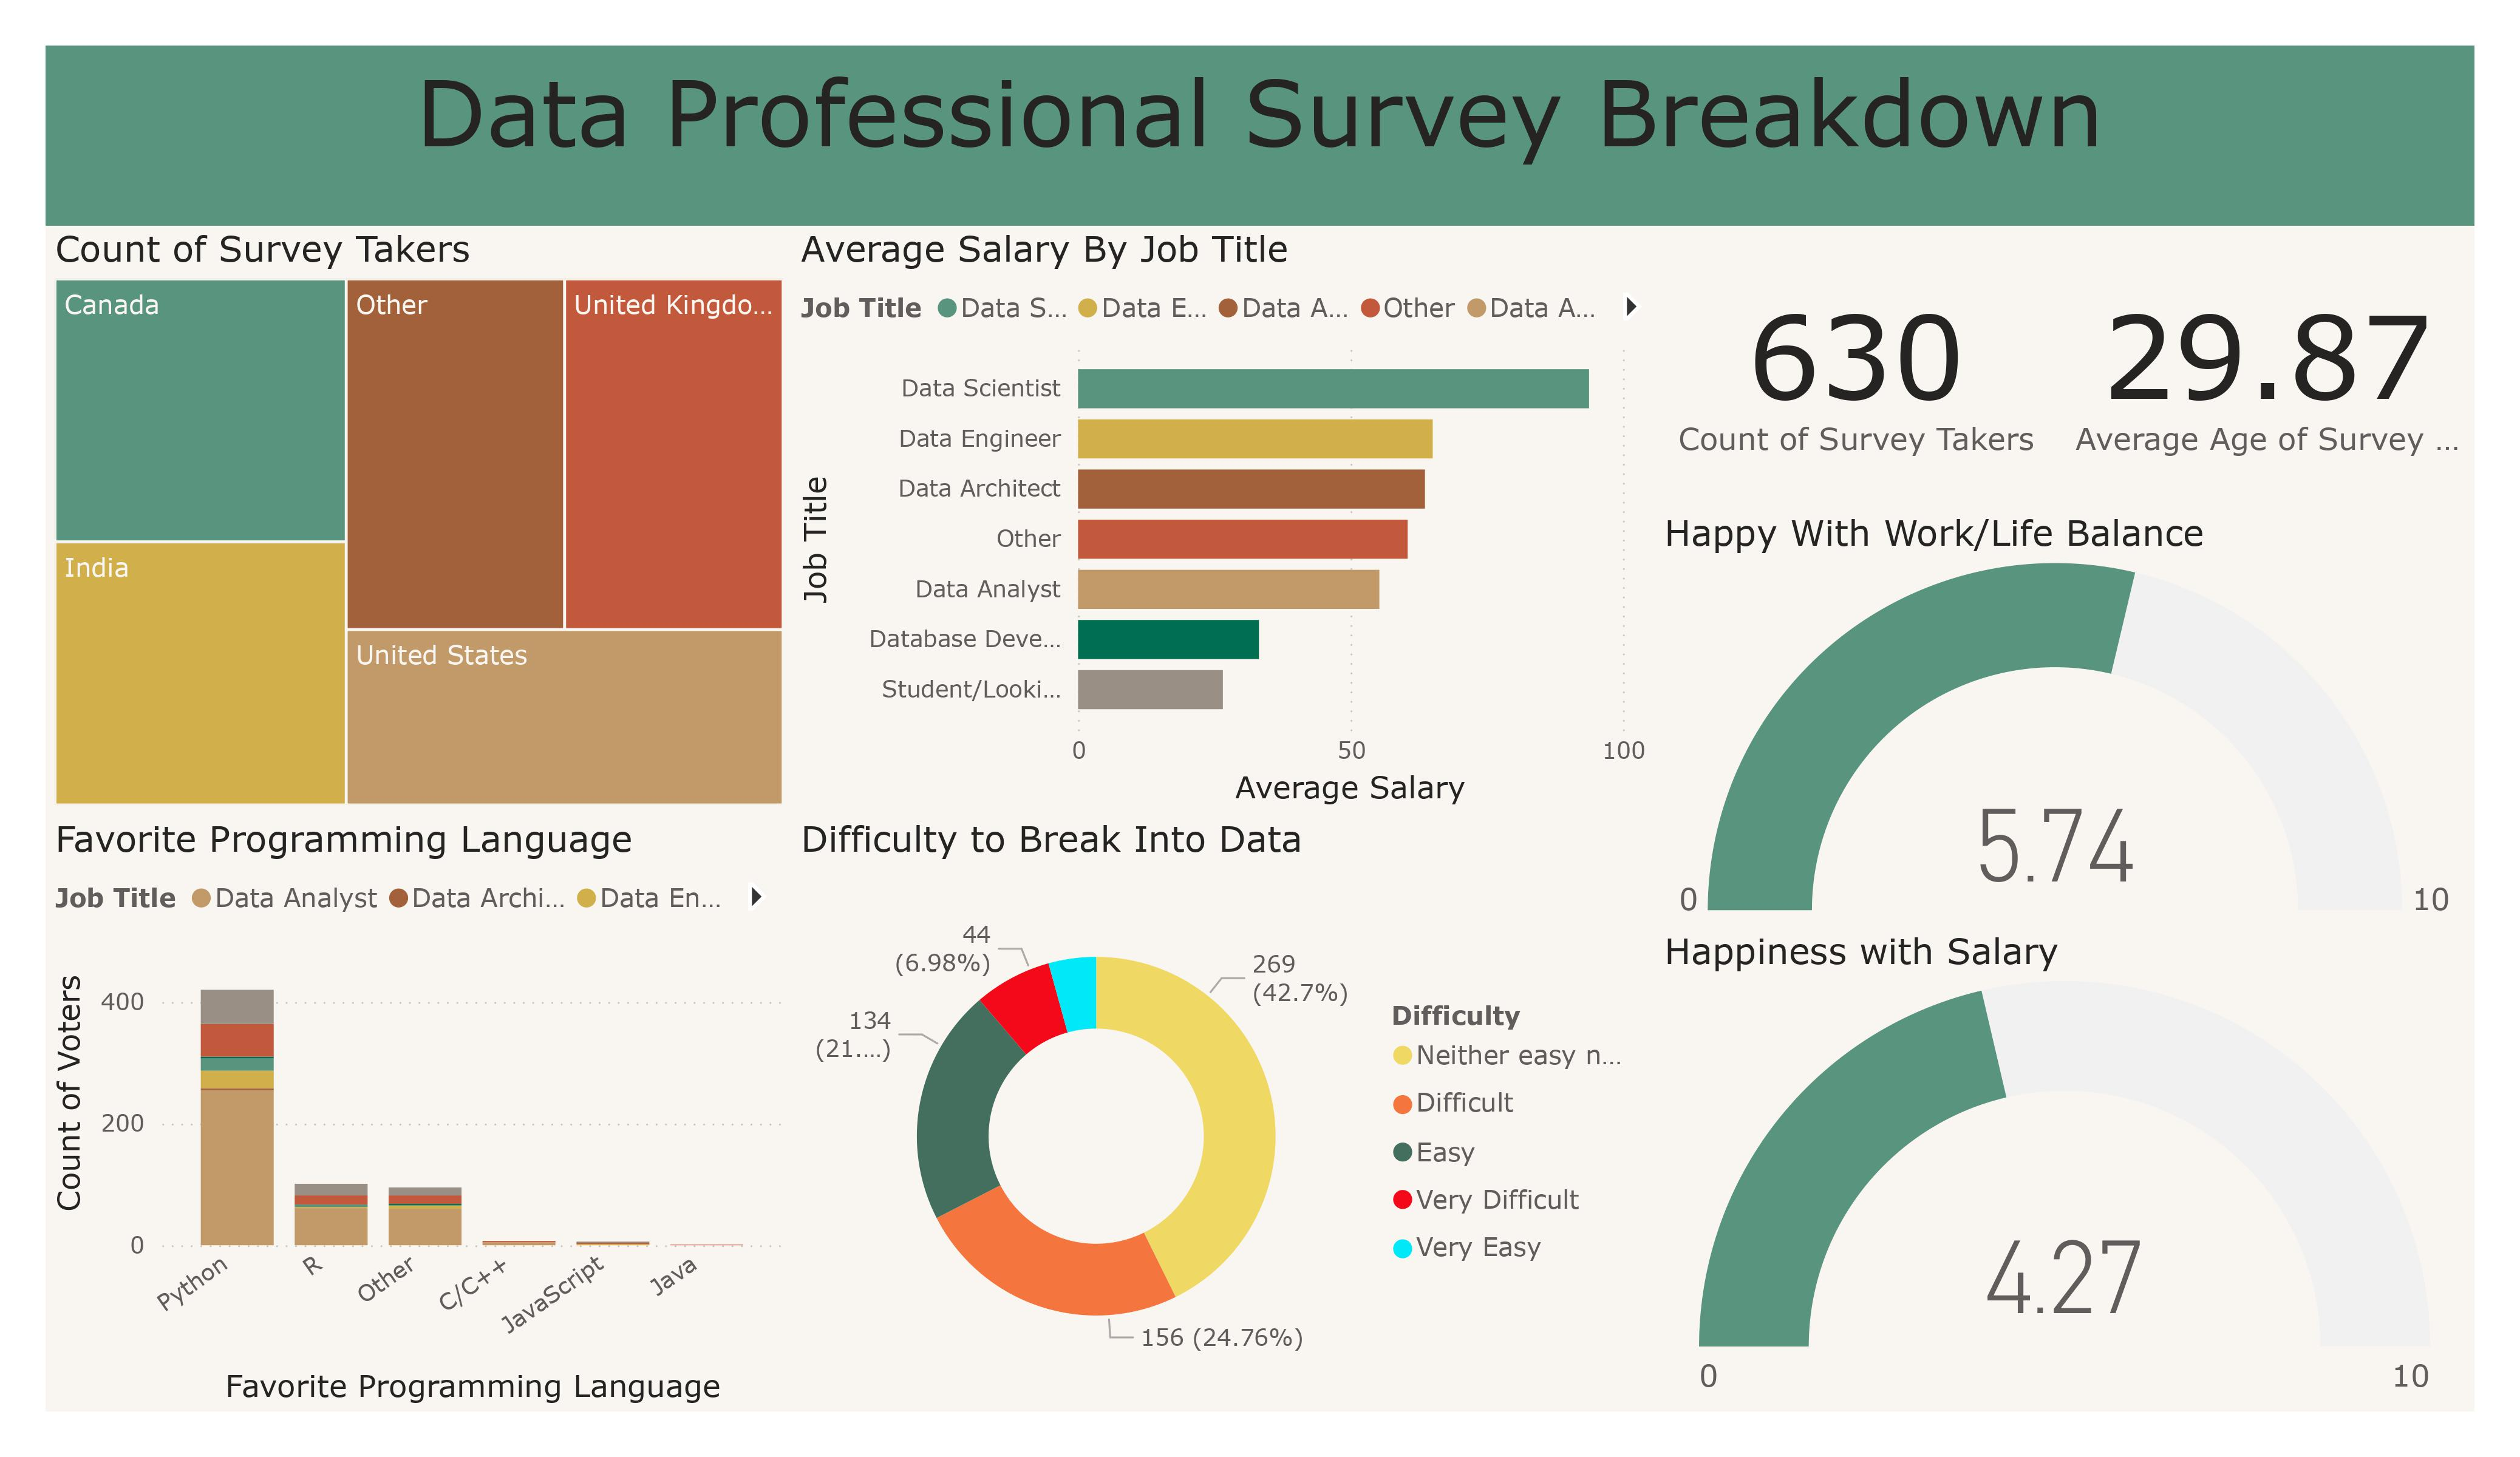

Layout of this report page (visuals, bound fields, positions):
{"tool":"powerbi","page":{"name":"Page 1","canvas":[1280,720],"ordinal":0},"visuals":[{"type":"textbox","box":[0,0,1280.5,95.1],"z":0},{"type":"card","fields":{"Values":["Count(Data Professional Survey.Unique ID)"]},"box":[848.8,95.1,212.2,149.3],"z":1000},{"type":"card","fields":{"Values":["Avg(Data Professional Survey.Q10 - Current Age)"]},"box":[1061,95.1,219.5,149.3],"z":2000},{"type":"barChart","title":"Average Salary By Job Title","fields":{"Category":["Data Professional Survey.Q1 - Which Title Best Fits your Current Role?.1"],"Y":["Avg(Data Professional Survey.Average Salary)"],"Series":["Data Professional Survey.Q1 - Which Title Best Fits your Current Role?.1"]},"box":[393.7,95.1,455.1,310.2],"z":3000},{"type":"columnChart","title":"Favorite Programming Language","fields":{"Category":["Data Professional Survey.Q5 - Favorite Programming Language.1"],"Y":["CountNonNull(Data Professional Survey.Unique ID)"],"Series":["Data Professional Survey.Q1 - Which Title Best Fits your Current Role?.1"]},"box":[0,405.4,393.7,314.6],"z":4000},{"type":"treemap","title":"Count of  Survey Takers","fields":{"Group":["Data Professional Survey.Q11 - Which Country do you live in?.1"],"Values":["Count(Data Professional Survey.Q11 - Which Country do you live in?.1)"]},"box":[0,95.1,393.7,310.2],"z":5000},{"type":"gauge","title":"Happiness with Salary","fields":{"Y":["Avg(Data Professional Survey.Q6 - How Happy are you in your Current Position with the following? (Salary))"],"MinValue":["Min(Data Professional Survey.Q6 - How Happy are you in your Current Position with the following? (Salary))"],"MaxValue":["Max(Data Professional Survey.Q6 - How Happy are you in your Current Position with the following? (Salary))"]},"box":[848.8,465.4,431.7,254.6],"z":6000},{"type":"gauge","title":"Happy With Work/Life Balance","fields":{"Y":["Avg(Data Professional Survey.Q6 - How Happy are you in your Current Position with the following? (Work/Life Balance))"],"MinValue":["Min(Data Professional Survey.Q6 - How Happy are you in your Current Position with the following? (Work/Life Balance))1"],"MaxValue":["Max(Data Professional Survey.Q6 - How Happy are you in your Current Position with the following? (Work/Life Balance))2"]},"box":[848.8,244.4,431.7,221],"z":7000},{"type":"donutChart","title":"Difficulty to Break Into Data","fields":{"Category":["Data Professional Survey.Q7 - How difficult was it for you to break into Data?"],"Y":["CountNonNull(Data Professional Survey.Q7 - How difficult was it for you to break into Data?)"]},"box":[393.7,405.4,455.1,314.6],"z":8000}]}

Visuals, with their boxes in screenshot pixels (x1, y1, x2, y2):
textbox: box(52, 39, 2519, 224)
card - Count(Data Professional Survey.Unique ID): box(1700, 224, 2113, 514)
card - Avg(Data Professional Survey.Q10 - Current Age): box(2113, 224, 2519, 514)
"Average Salary By Job Title" barChart: box(817, 224, 1700, 826)
"Favorite Programming Language" columnChart: box(52, 826, 817, 1437)
"Count of  Survey Takers" treemap: box(52, 224, 817, 826)
"Happiness with Salary" gauge: box(1700, 943, 2519, 1437)
"Happy With Work/Life Balance" gauge: box(1700, 514, 2519, 943)
"Difficulty to Break Into Data" donutChart: box(817, 826, 1700, 1437)
